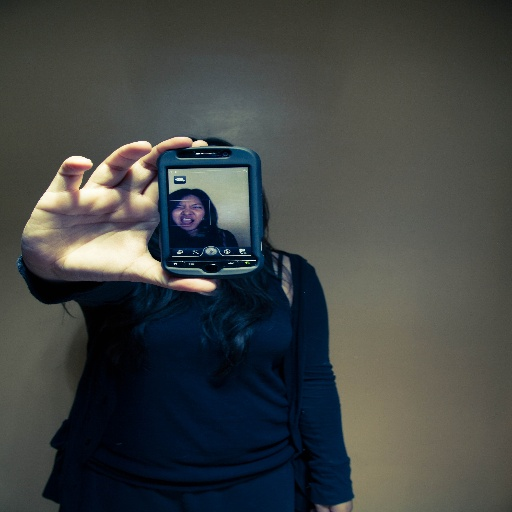hand: (48, 136, 198, 308), (316, 501, 354, 511)
